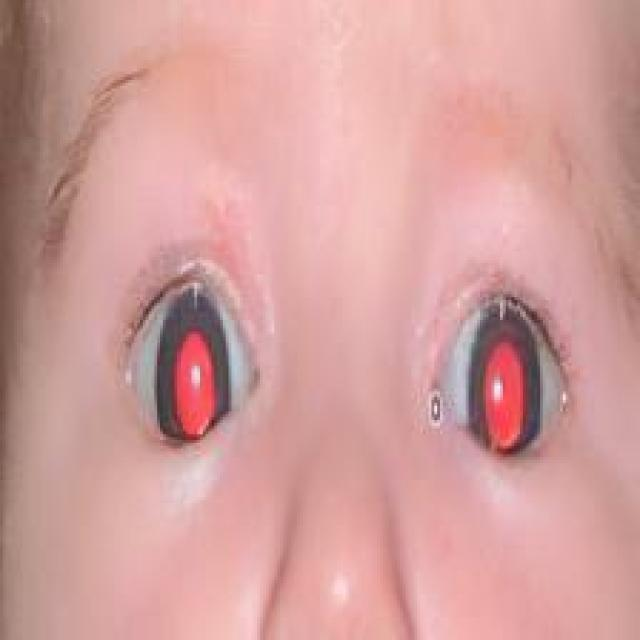reflexo-normal: (397, 226, 590, 500), (84, 254, 295, 478)
